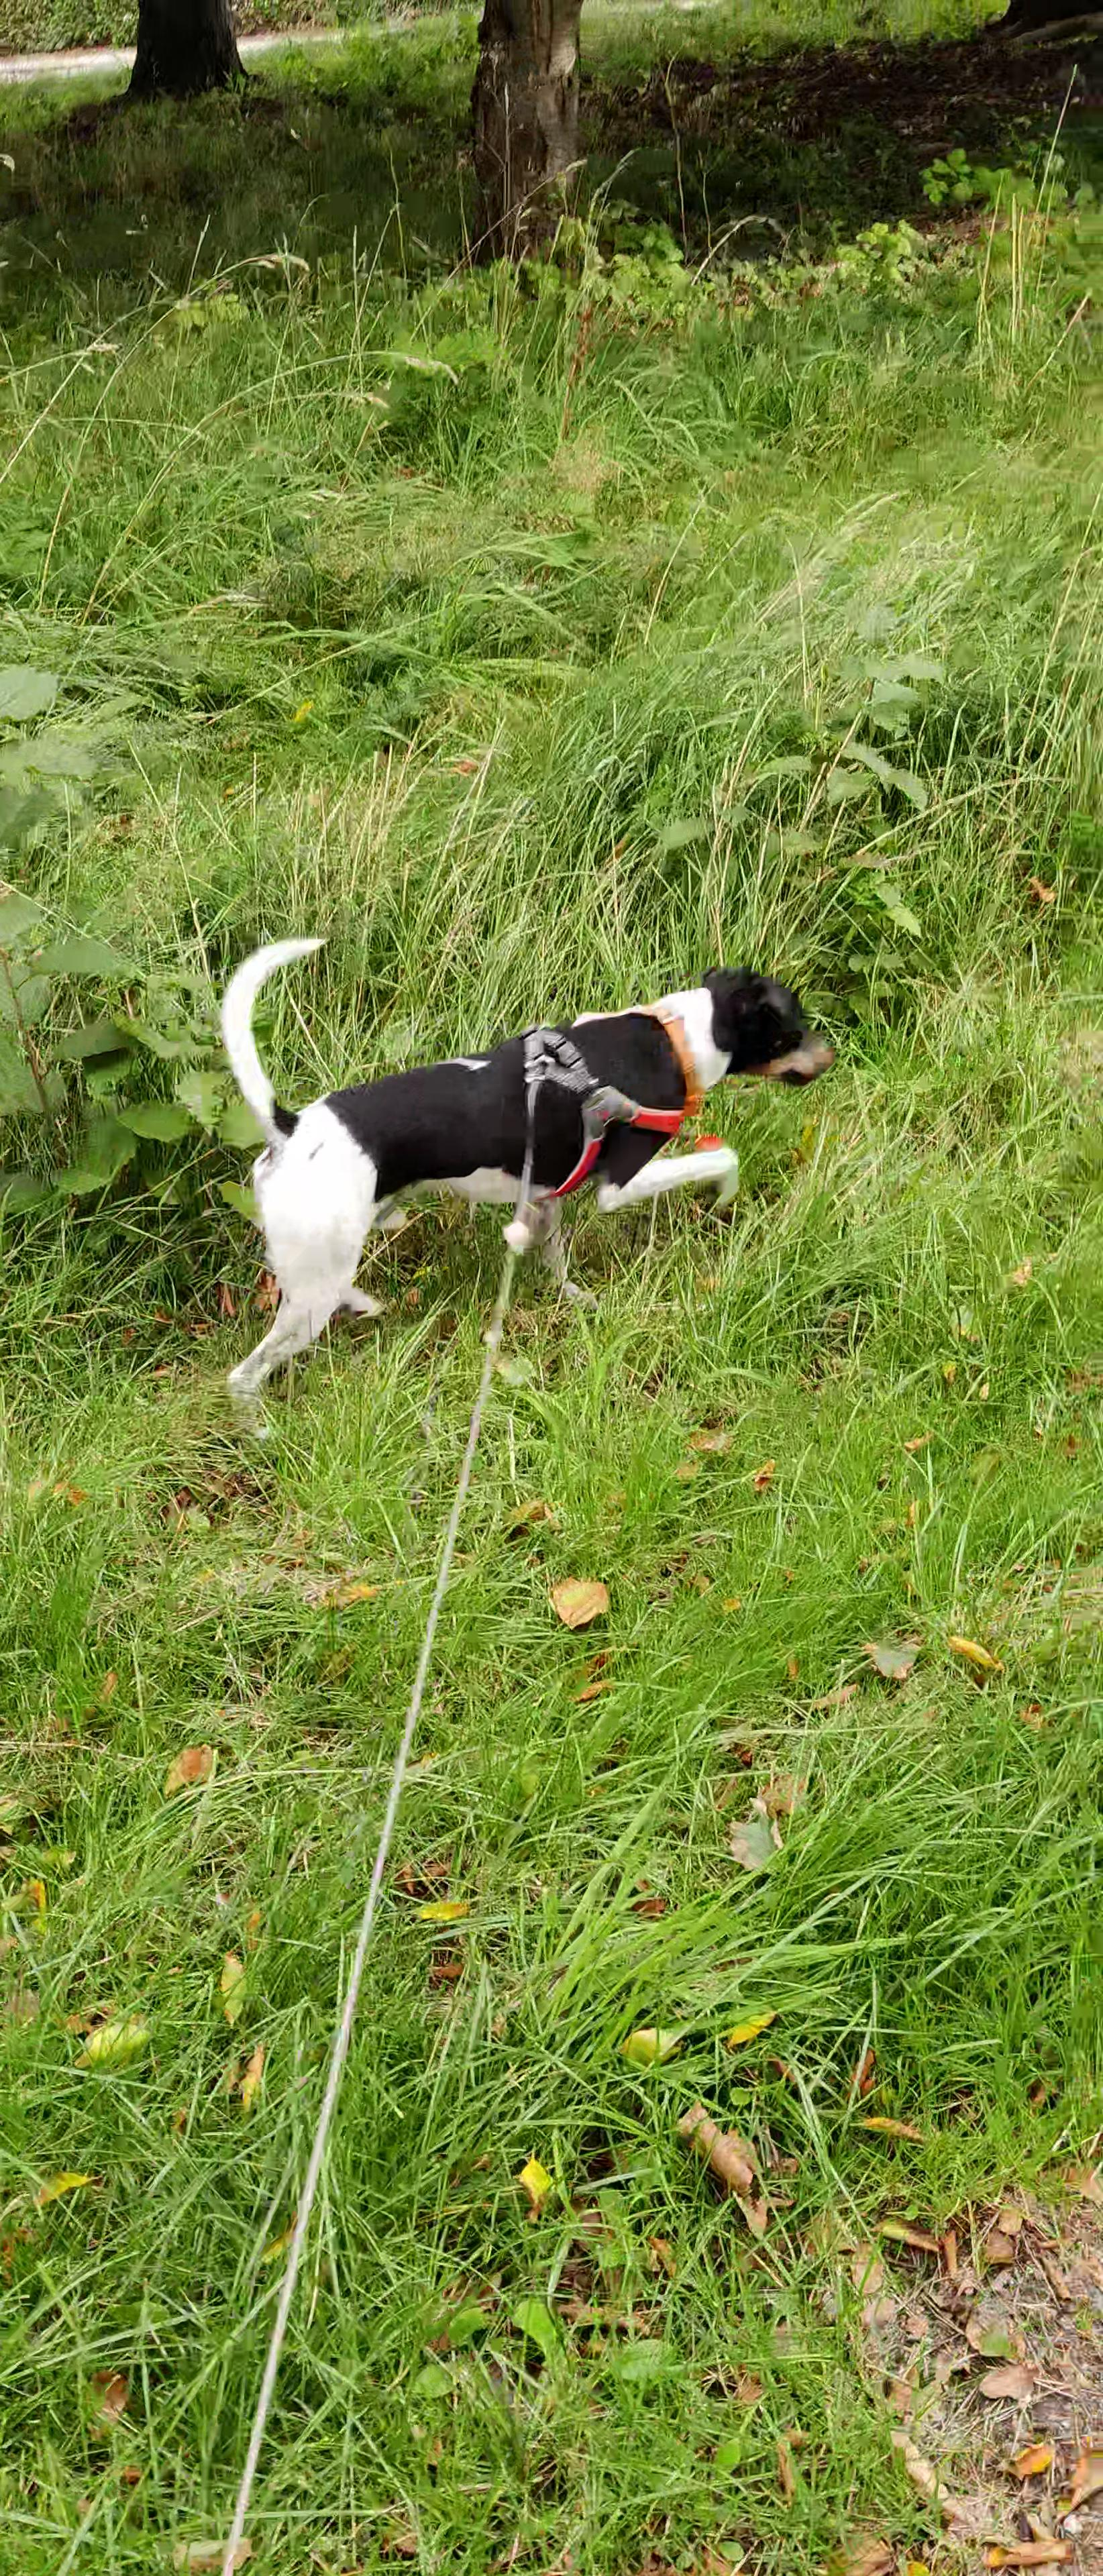Dog: (191, 917, 853, 1444)
